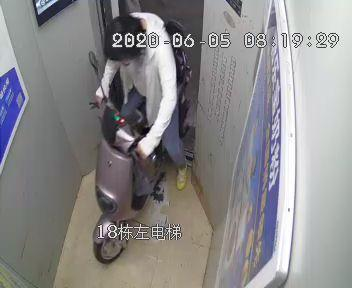Electric-bicycle: (88, 19, 190, 263)
